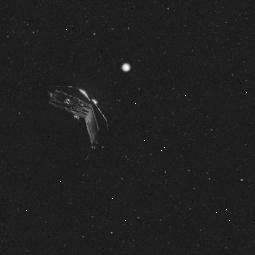lisa_pathfinder: (35, 77, 114, 161)
